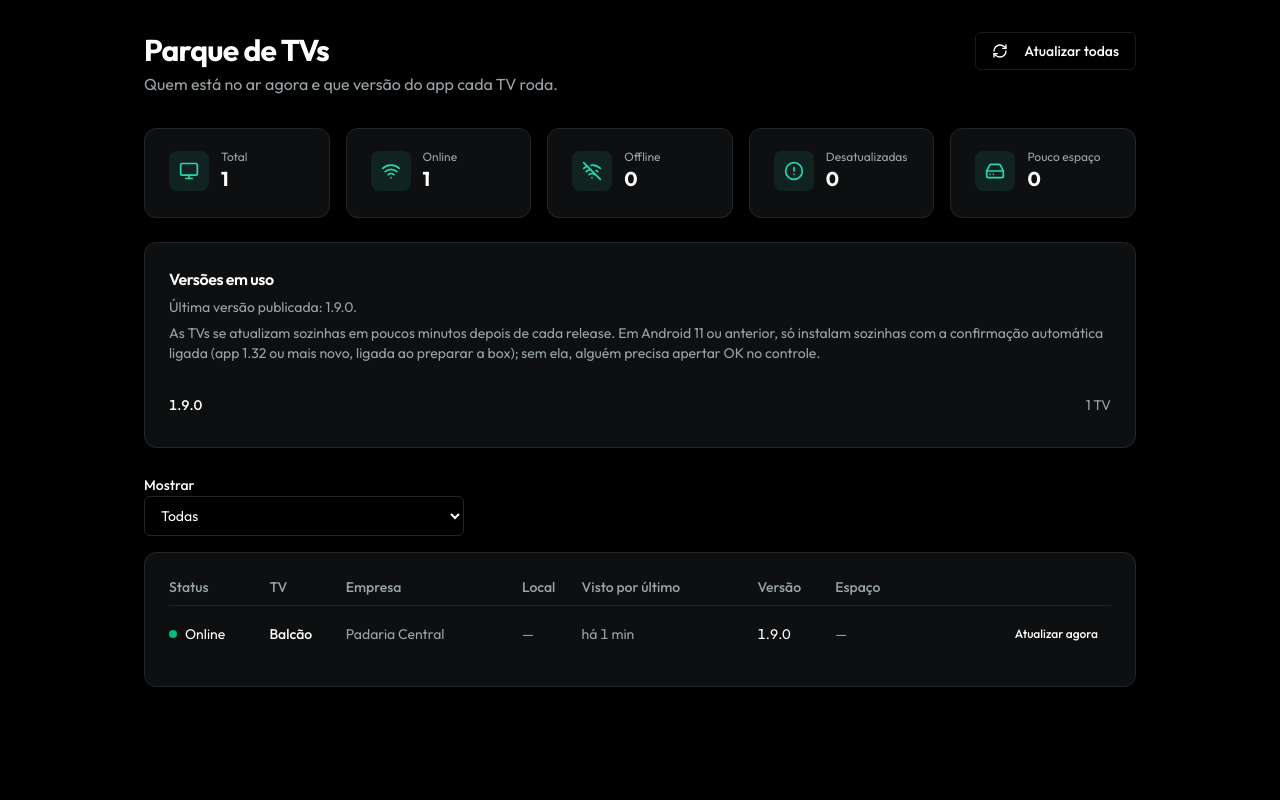
Test: Parque de TVs › filtro sem resultado diz que nenhuma TV se encaixa
Check: the link "Balcão" is shown, box [269,624,312,644]
Select "Offline" in the dropdown labelled "Mostrar" at (304, 516), box [144,496,464,536]
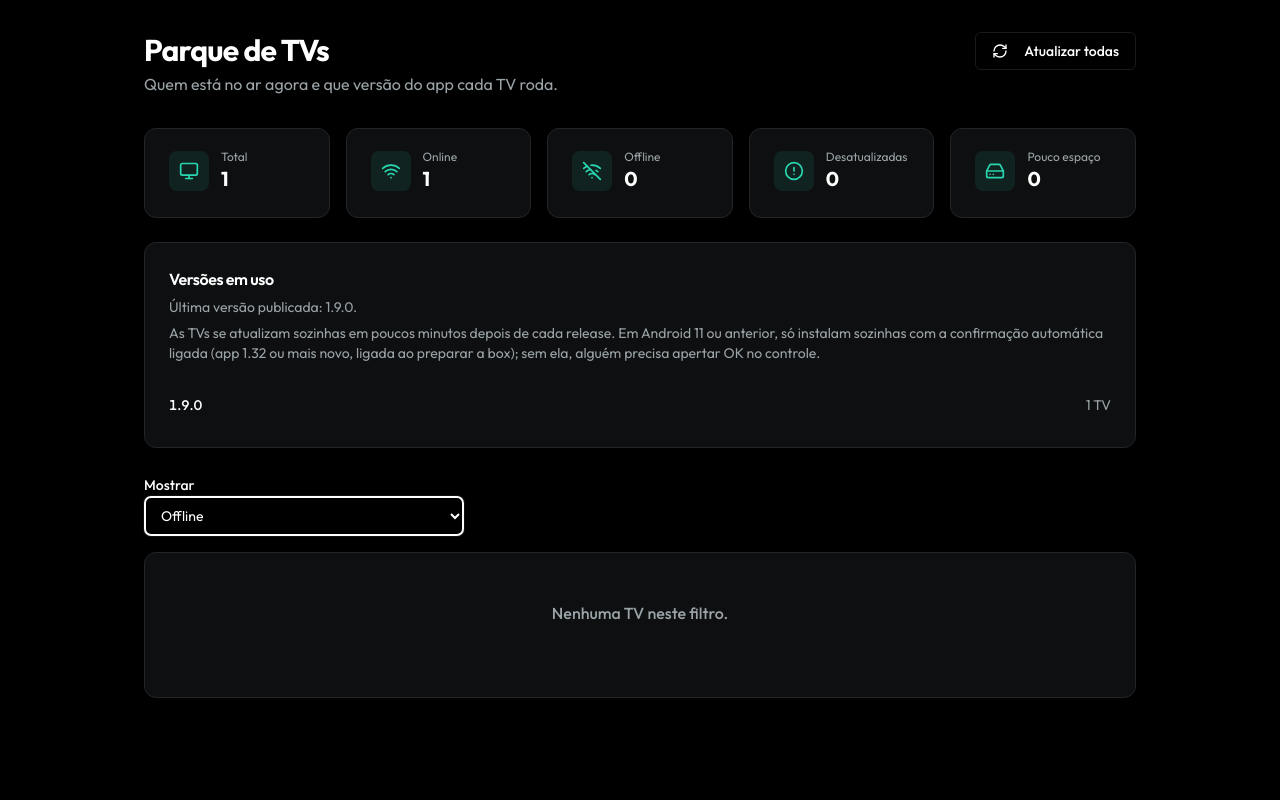
Check: the text "Nenhuma TV neste filtro." is shown, box [552,603,728,623]
